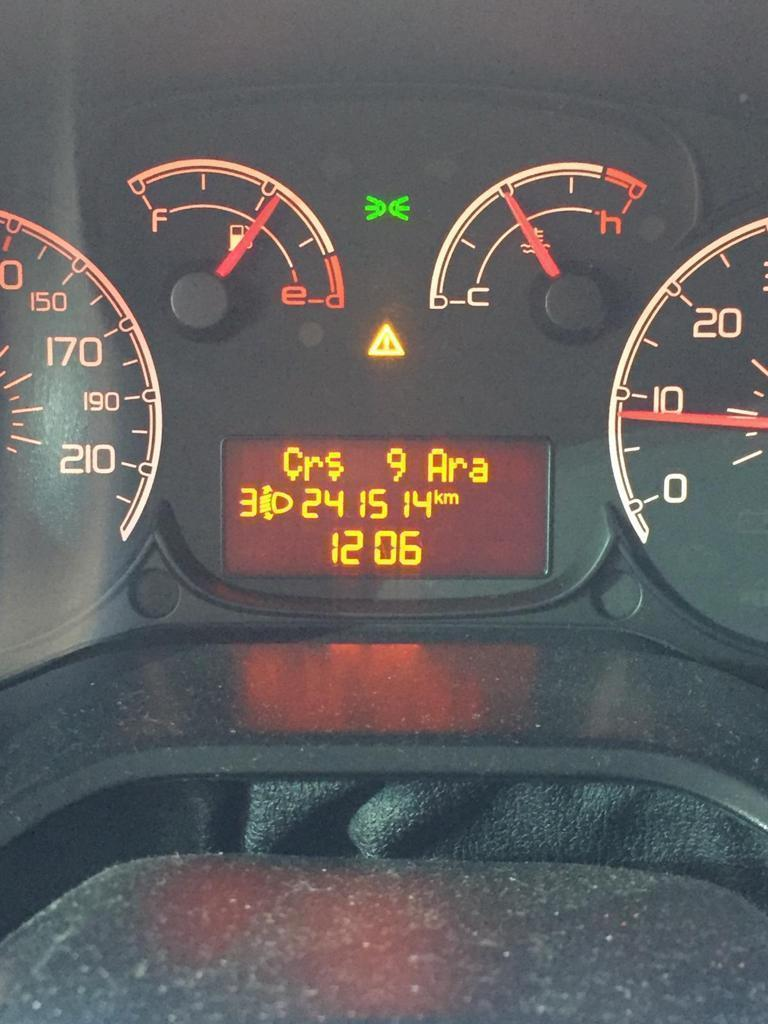0: (373, 528, 397, 566)
1: (329, 528, 339, 566), (358, 488, 366, 519), (402, 489, 410, 519)
2: (340, 529, 364, 565), (300, 487, 322, 519)
3: (237, 485, 257, 518)
4: (323, 487, 346, 518), (412, 489, 433, 518)
5: (368, 488, 388, 520)
6: (399, 529, 422, 565)
9: (387, 447, 408, 483)
X: (426, 448, 447, 484), (283, 446, 303, 482), (324, 451, 345, 481), (466, 456, 488, 483), (447, 455, 467, 483), (304, 455, 323, 482), (443, 491, 460, 504), (434, 488, 442, 504)
odometer: (217, 432, 553, 582)
